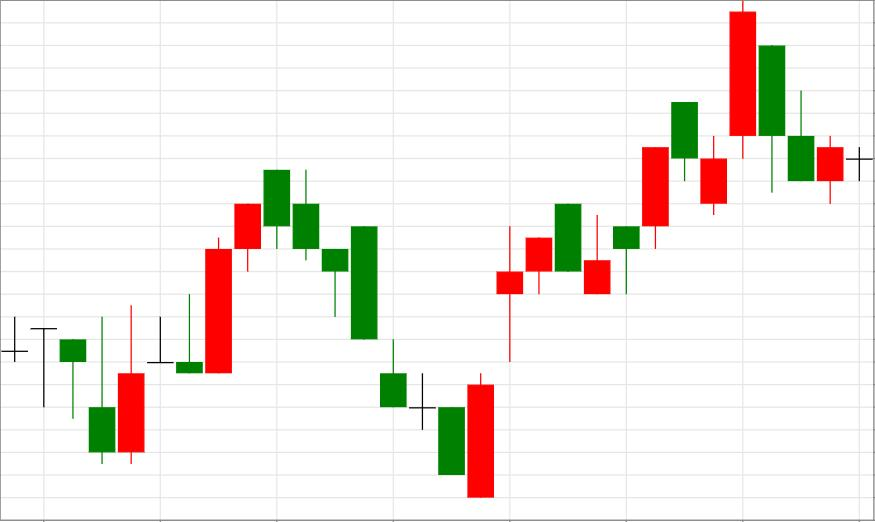bullish_engulfing_rise: (263, 169, 495, 498)
